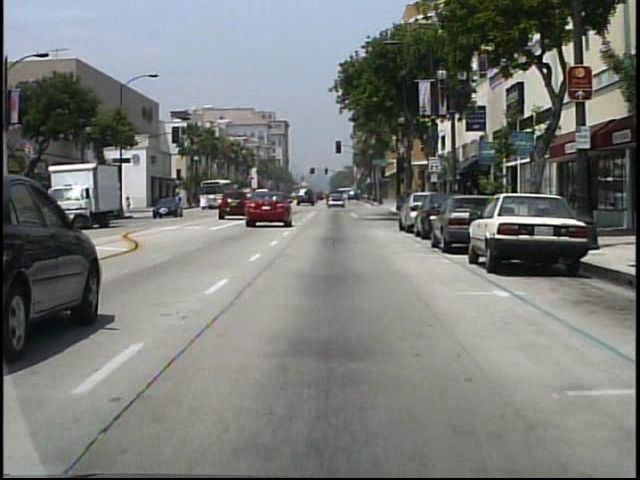person: (126, 196, 134, 217)
